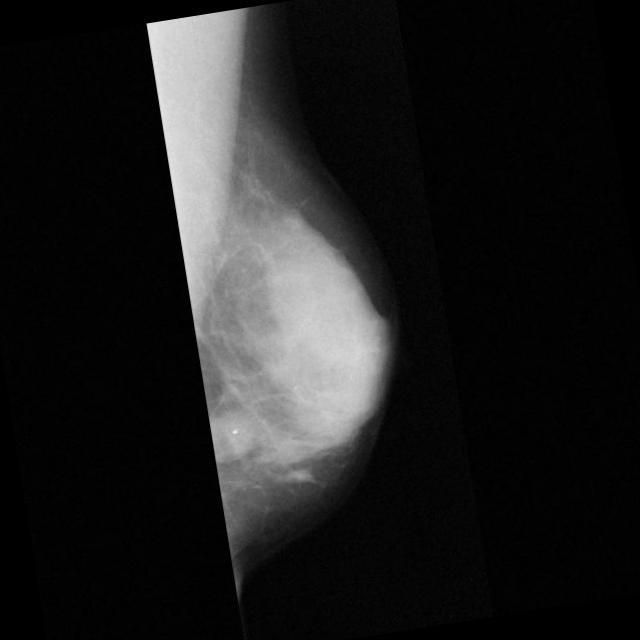CIRC: (196, 403, 260, 468)
